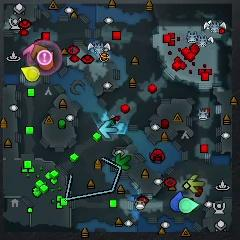Other: (37, 49, 52, 65)
p1: (171, 192, 184, 212)
p2: (179, 198, 199, 213)
p4: (20, 65, 41, 82)
p5: (41, 51, 54, 70)
x1: (23, 43, 35, 63)
x2: (187, 173, 204, 192)
x3: (99, 120, 117, 138)
x4: (116, 153, 131, 170)
x5: (32, 45, 47, 58)
